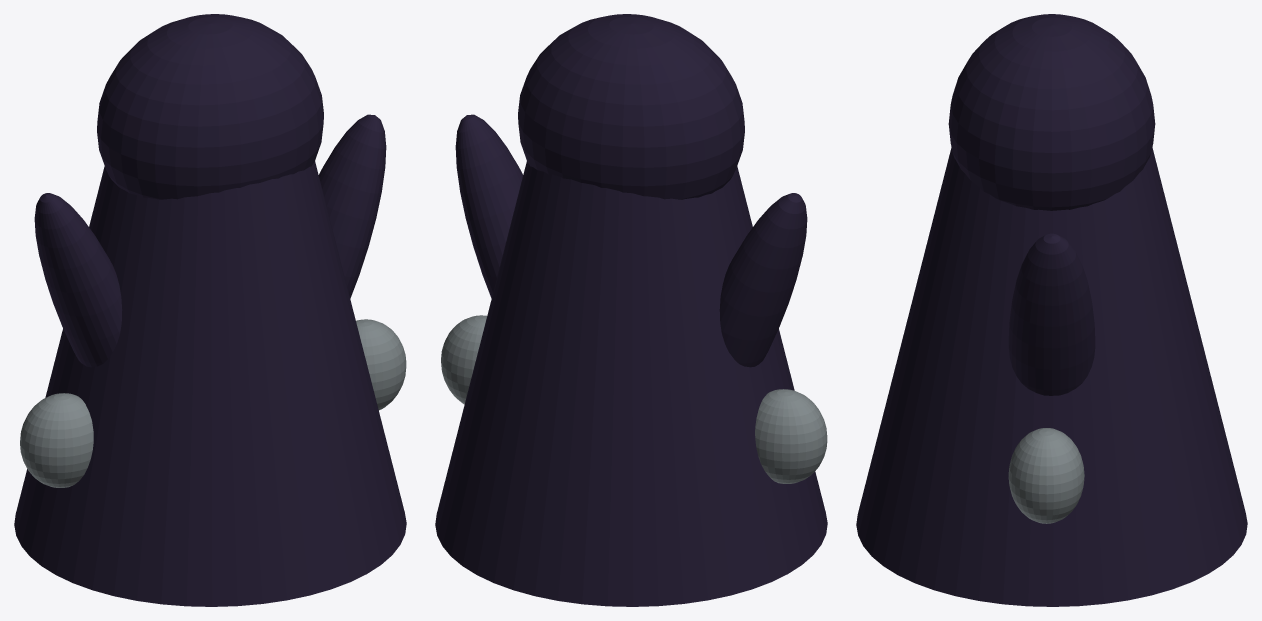
Rendered from Grave_Soul_Enemy.fbx.
The picture shows the model from 3 angles, left to right: view 1: azimuth 30°, elevation 25°; view 2: azimuth 150°, elevation 25°; view 3: azimuth 270°, elevation 25°; orthographic projection.
Visible parts, largest first — view 1: GraveSoul_CloakBody, GraveSoul_Hood, GraveSoul_Arm_L, GraveSoul_Arm_R, GraveSoul_Hand_L, GraveSoul_Hand_R; view 2: GraveSoul_CloakBody, GraveSoul_Hood, GraveSoul_Arm_L, GraveSoul_Arm_R, GraveSoul_Hand_L, GraveSoul_Hand_R; view 3: GraveSoul_CloakBody, GraveSoul_Hood, GraveSoul_Arm_R, GraveSoul_Hand_R.
Boxes of the visible parts, x1,y1,x2,y2 form: GraveSoul_CloakBody: (14,161,406,606); GraveSoul_Hood: (97,14,323,199); GraveSoul_Arm_L: (34,193,122,367); GraveSoul_Arm_R: (318,114,386,298); GraveSoul_Hand_L: (20,393,93,487); GraveSoul_Hand_R: (356,319,406,410); GraveSoul_CloakBody: (435,161,827,606); GraveSoul_Hood: (518,14,744,199); GraveSoul_Arm_L: (719,193,807,367); GraveSoul_Arm_R: (455,114,523,298); GraveSoul_Hand_L: (755,389,827,483); GraveSoul_Hand_R: (441,315,487,404); GraveSoul_CloakBody: (856,147,1247,606); GraveSoul_Hood: (948,14,1155,210); GraveSoul_Arm_R: (1008,233,1095,395); GraveSoul_Hand_R: (1008,428,1084,523).
Bounding box in the file's own units: 1.6 × 2.19 × 1.44.
